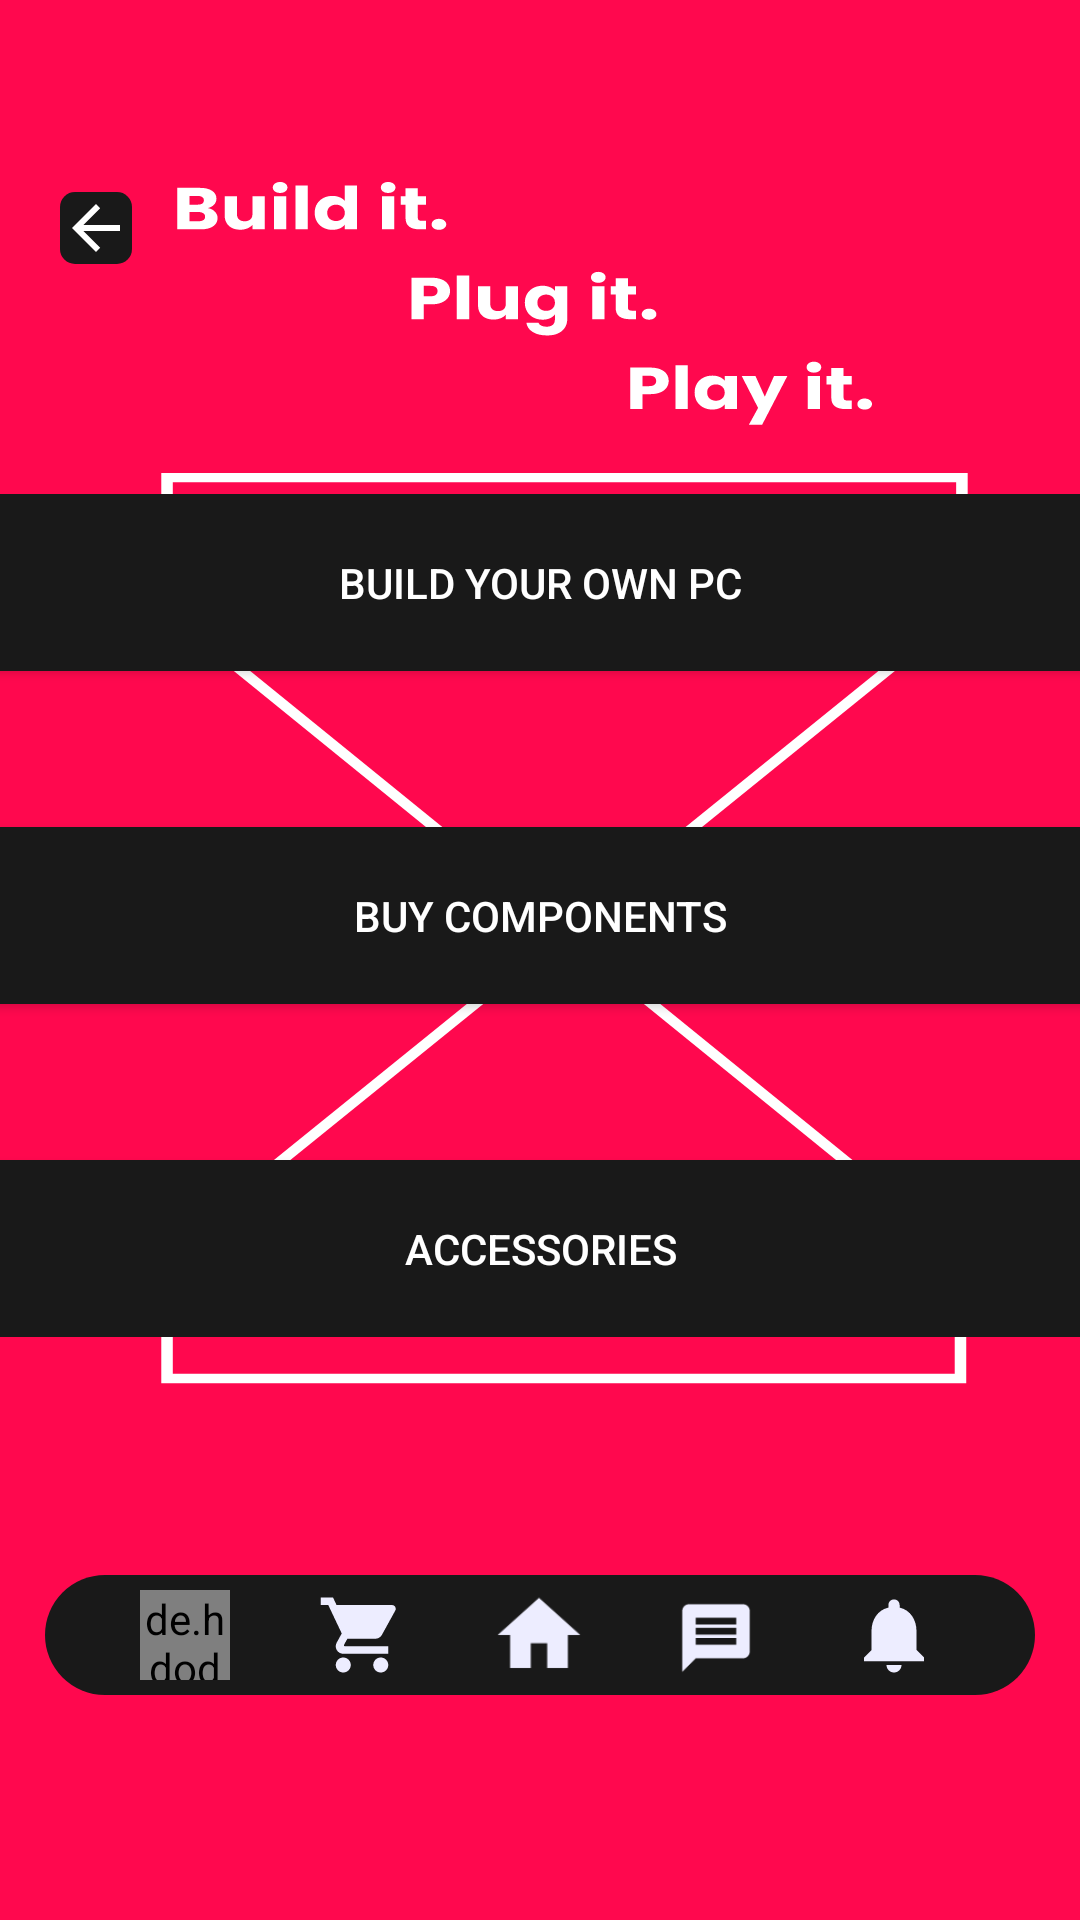

Icons on this 1080×1920 Android screen, each with the point to tap as (x,y):
notifications: (894,1636)
shopping cart: (358,1635)
